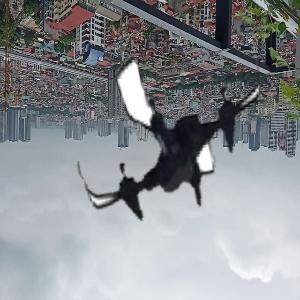drone: (73, 39, 273, 239)
